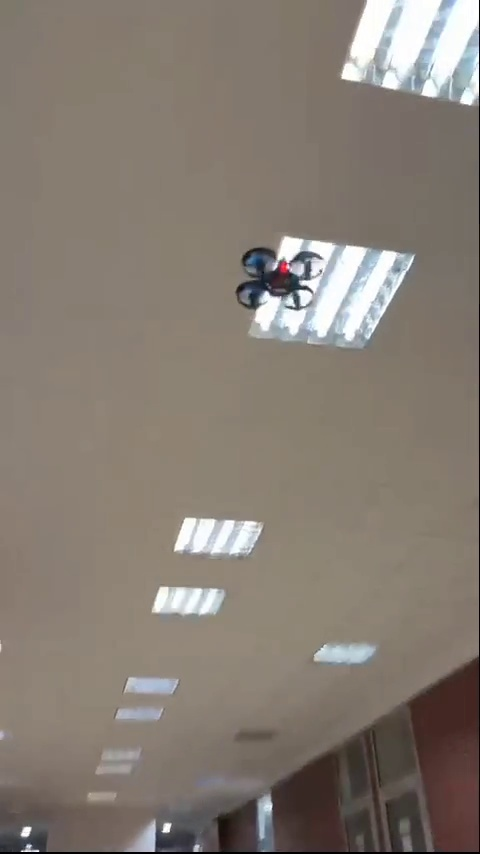drone: (239, 248, 325, 313)
